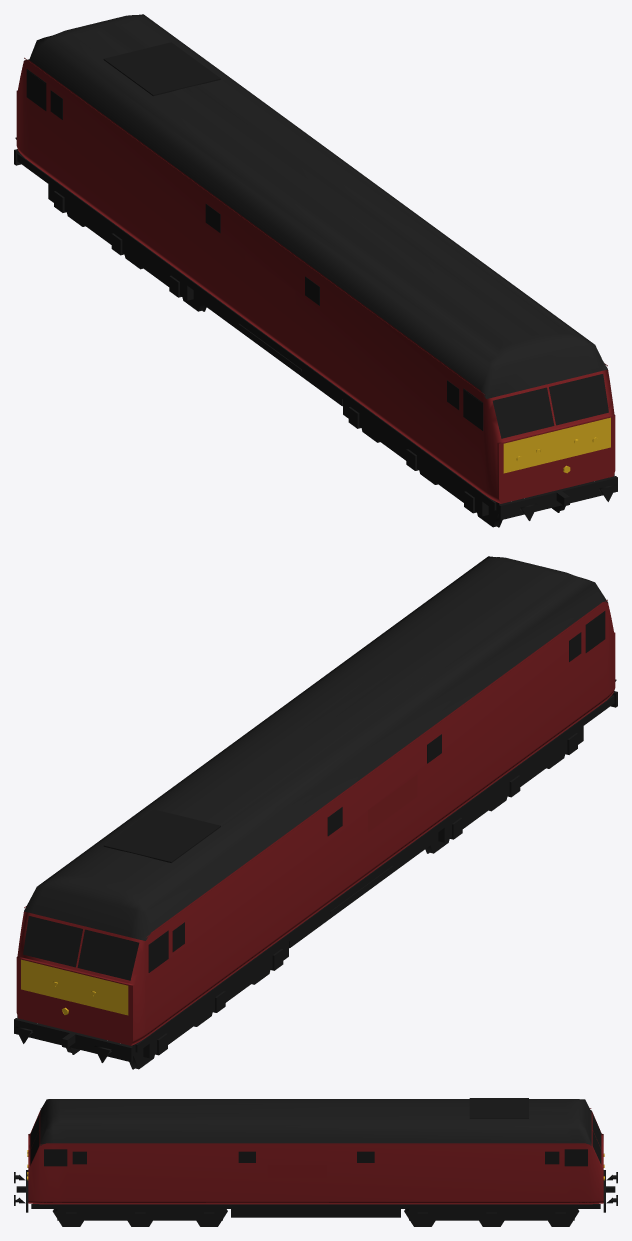
The model's file is diesel47_lod2.glb.
3 renders of one model, top to bottom at view 1: azimuth 30°, elevation 25°; view 2: azimuth 150°, elevation 25°; view 3: azimuth 270°, elevation 25°, orthographic. The views are drawn at different scales.
Visible parts, largest first — view 1: diesel47_static_roof_black, diesel47_static_coach_maroon, diesel47_static_underframe, diesel47_static_axle_yellow; view 2: diesel47_static_roof_black, diesel47_static_coach_maroon, diesel47_static_underframe, diesel47_static_axle_yellow; view 3: diesel47_static_coach_maroon, diesel47_static_roof_black, diesel47_static_underframe.
Boxes of the visible parts, x1,y1,x2,y2 form: diesel47_static_roof_black: [25, 14, 607, 398]; diesel47_static_coach_maroon: [16, 57, 615, 503]; diesel47_static_underframe: [14, 42, 617, 527]; diesel47_static_axle_yellow: [503, 417, 610, 473]; diesel47_static_roof_black: [24, 556, 607, 940]; diesel47_static_coach_maroon: [16, 599, 615, 1045]; diesel47_static_underframe: [14, 611, 617, 1069]; diesel47_static_axle_yellow: [21, 959, 128, 1015]; diesel47_static_coach_maroon: [28, 1108, 603, 1204]; diesel47_static_roof_black: [40, 1099, 591, 1145]; diesel47_static_underframe: [14, 1098, 617, 1226].
Size of the model in its own units: 2.71 by 3.87 by 19.38.
